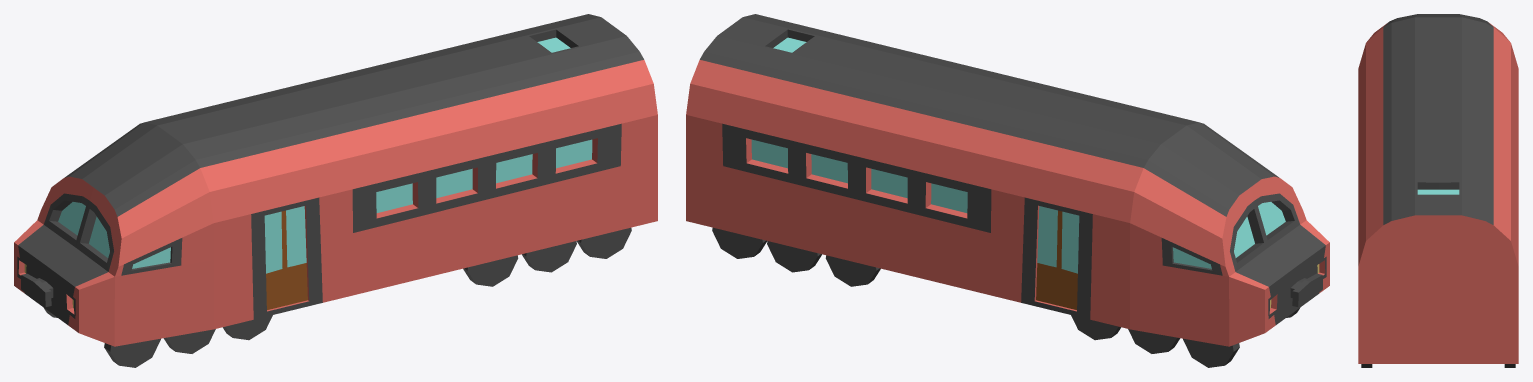
File: giden_tren.fbx
The picture shows the model from 3 angles, left to right: view 1: azimuth 30°, elevation 25°; view 2: azimuth 150°, elevation 25°; view 3: azimuth 270°, elevation 25°; orthographic projection. The views are drawn at different scales.
Parts seen in each view (by area): view 1: Cube; view 2: Cube; view 3: Cube.
Boxes of the visible parts, x1,y1,x2,y2 form: Cube: (14, 14, 657, 367); Cube: (686, 14, 1329, 367); Cube: (1358, 14, 1518, 367).
Size of the model in its own units: 748 by 233 by 195.
